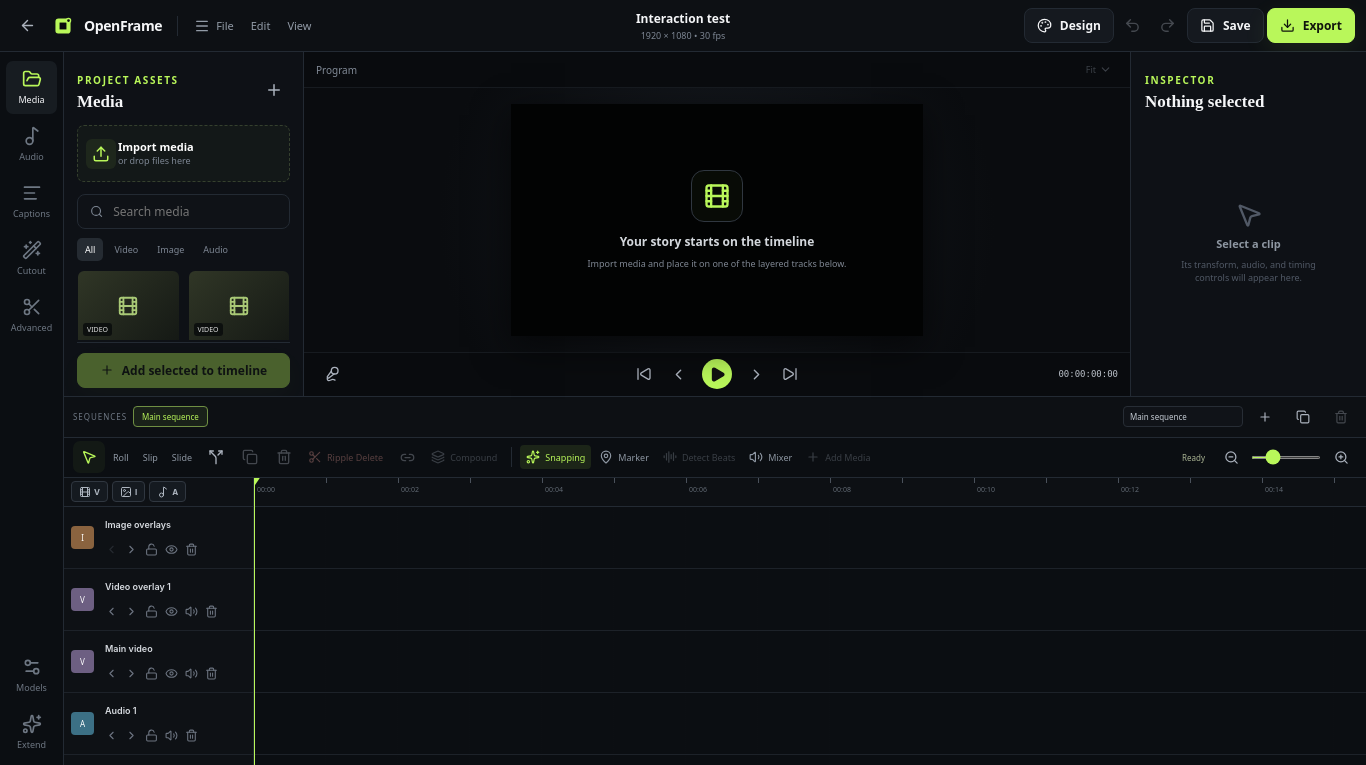
Test case: editor interactions › records microphone audio and inserts it on a voice-over track
Click the button titled "Record microphone voice-over at playhead".
click(332, 374)  # box [316, 358, 348, 390]
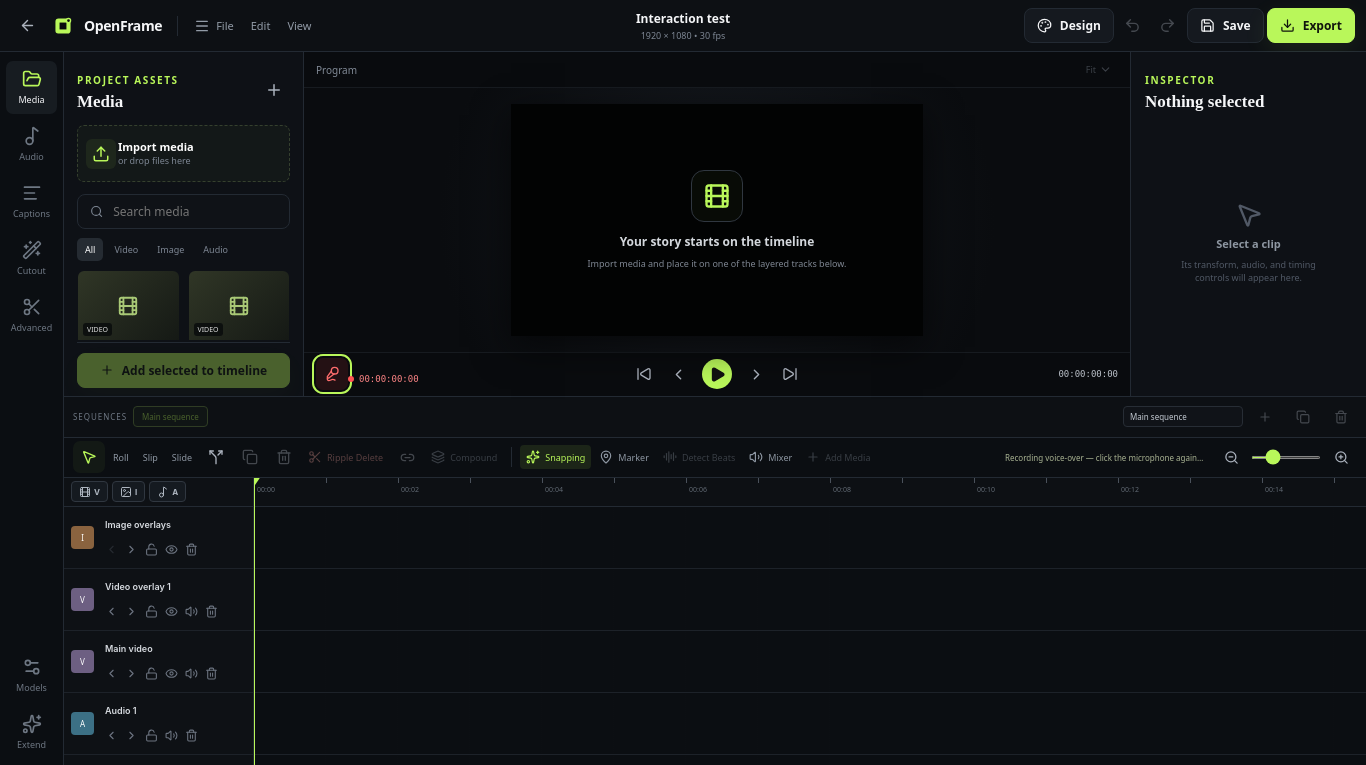
Check: the button titled "Stop voice-over recording" is shown
Click the button titled "Stop voice-over recording".
click(332, 374)  # box [316, 358, 348, 390]
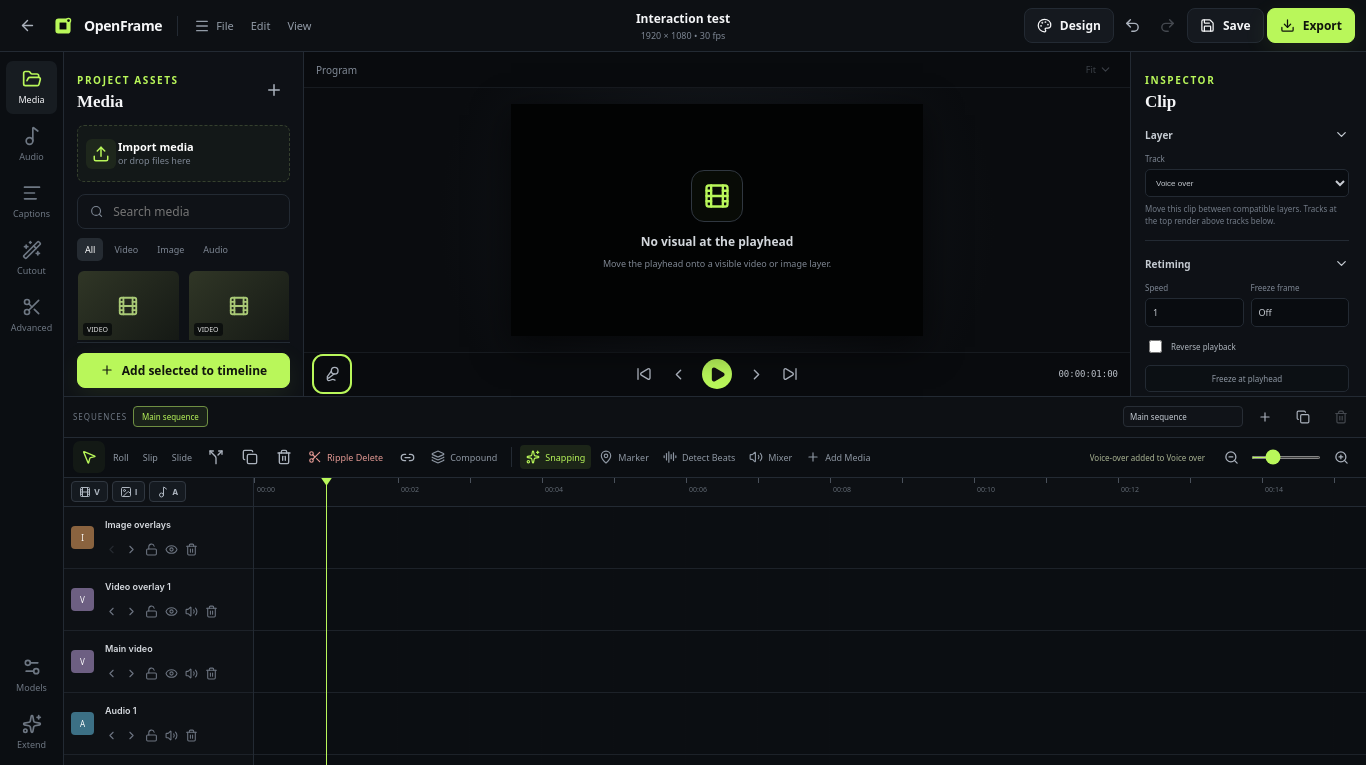
Check: the message shows "Voice-over added", box [1090, 452, 1205, 463]
